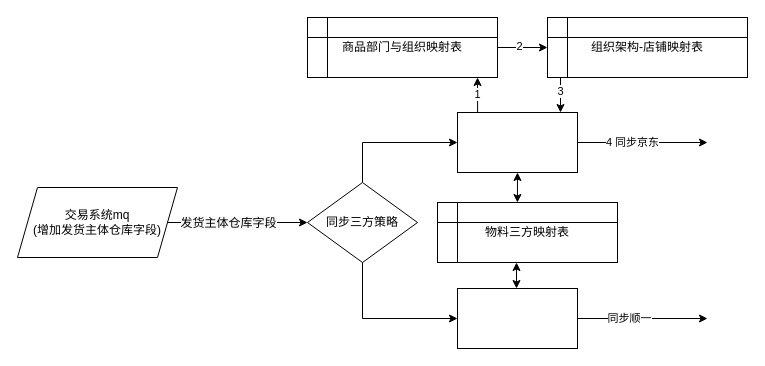
Some shapes in this 765 by 366 pixel diagram are drawn without their labels. The shapes that lost their labels are listed below. From the top down, each one's centre as x and y in pixels, then its label:
At (x=517, y=142): "同步京东策略实现类".
At (x=517, y=318): "同步顺一策略实现类".
